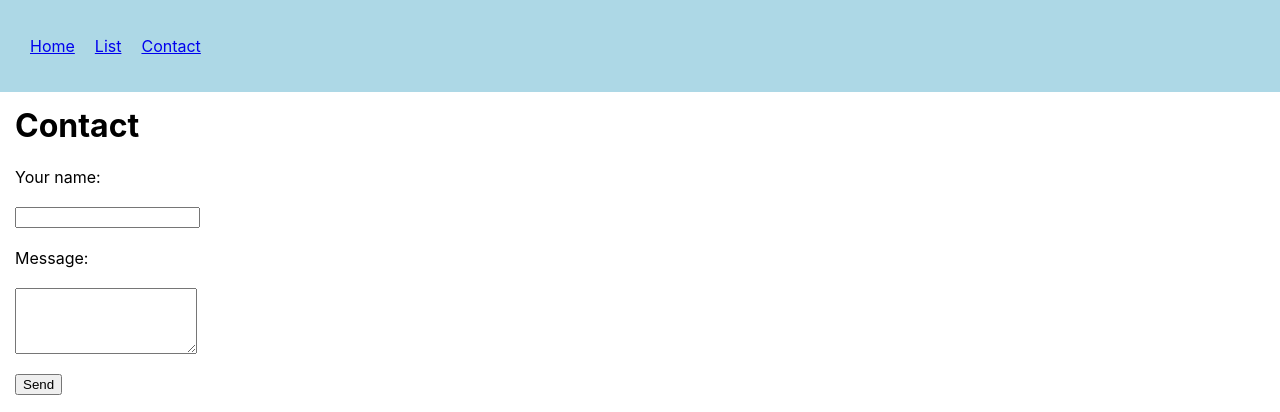
Contact › should submit successfully
Type "david" into the field named "name" at (108, 218), box [15,207,200,228]
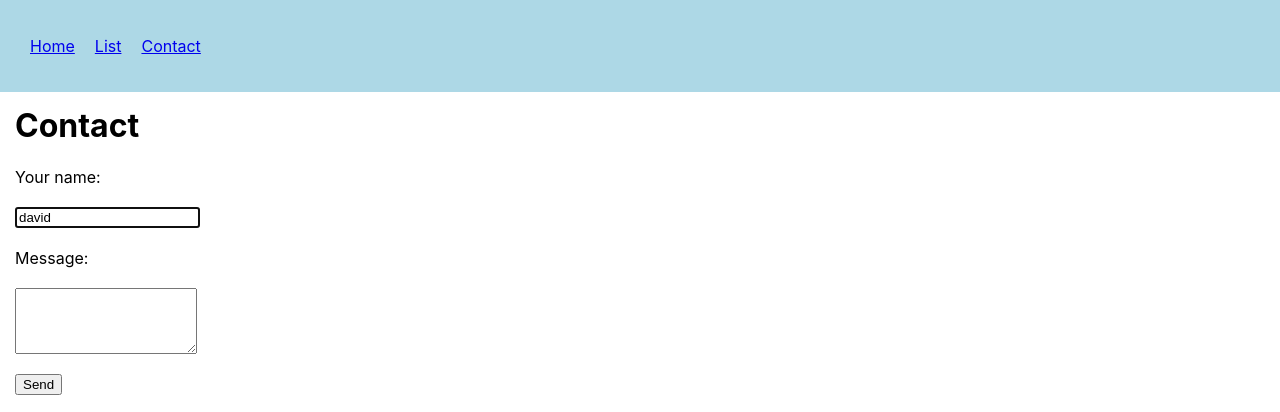
Type "just testing via cypress" into the text box named "message" at (106, 321), box [15,288,197,354]
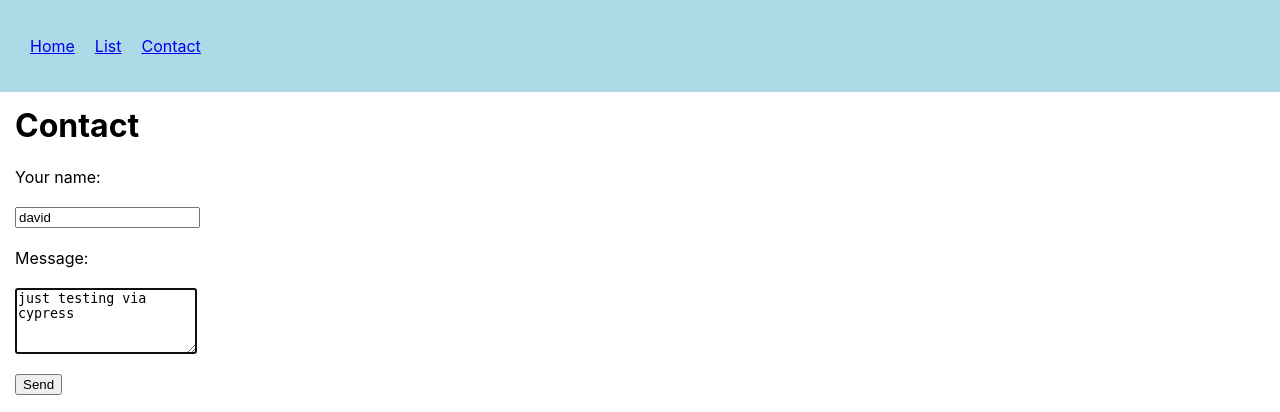
Click the submit button at (39, 385), box [15,374,62,395]
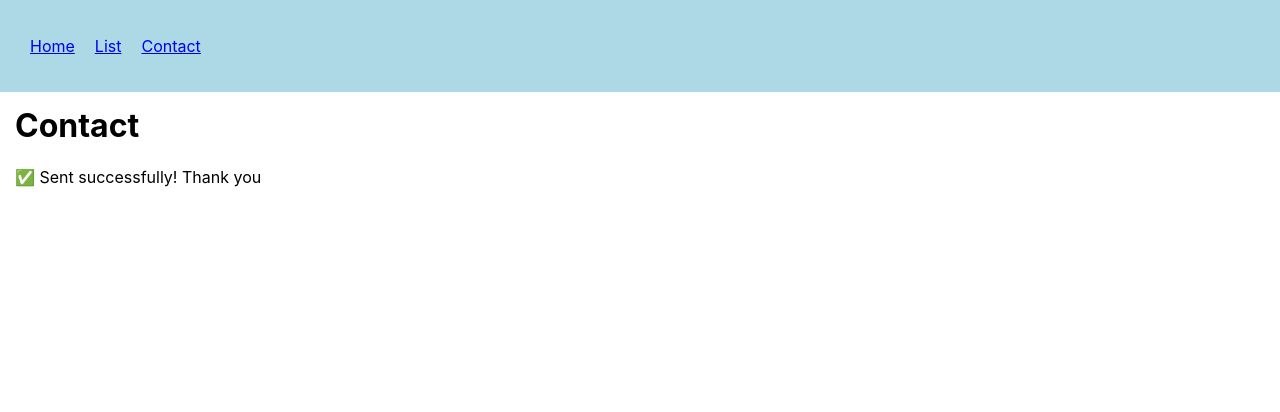
Check: the text "Sent successfully" is shown, box [35,167,261,187]
